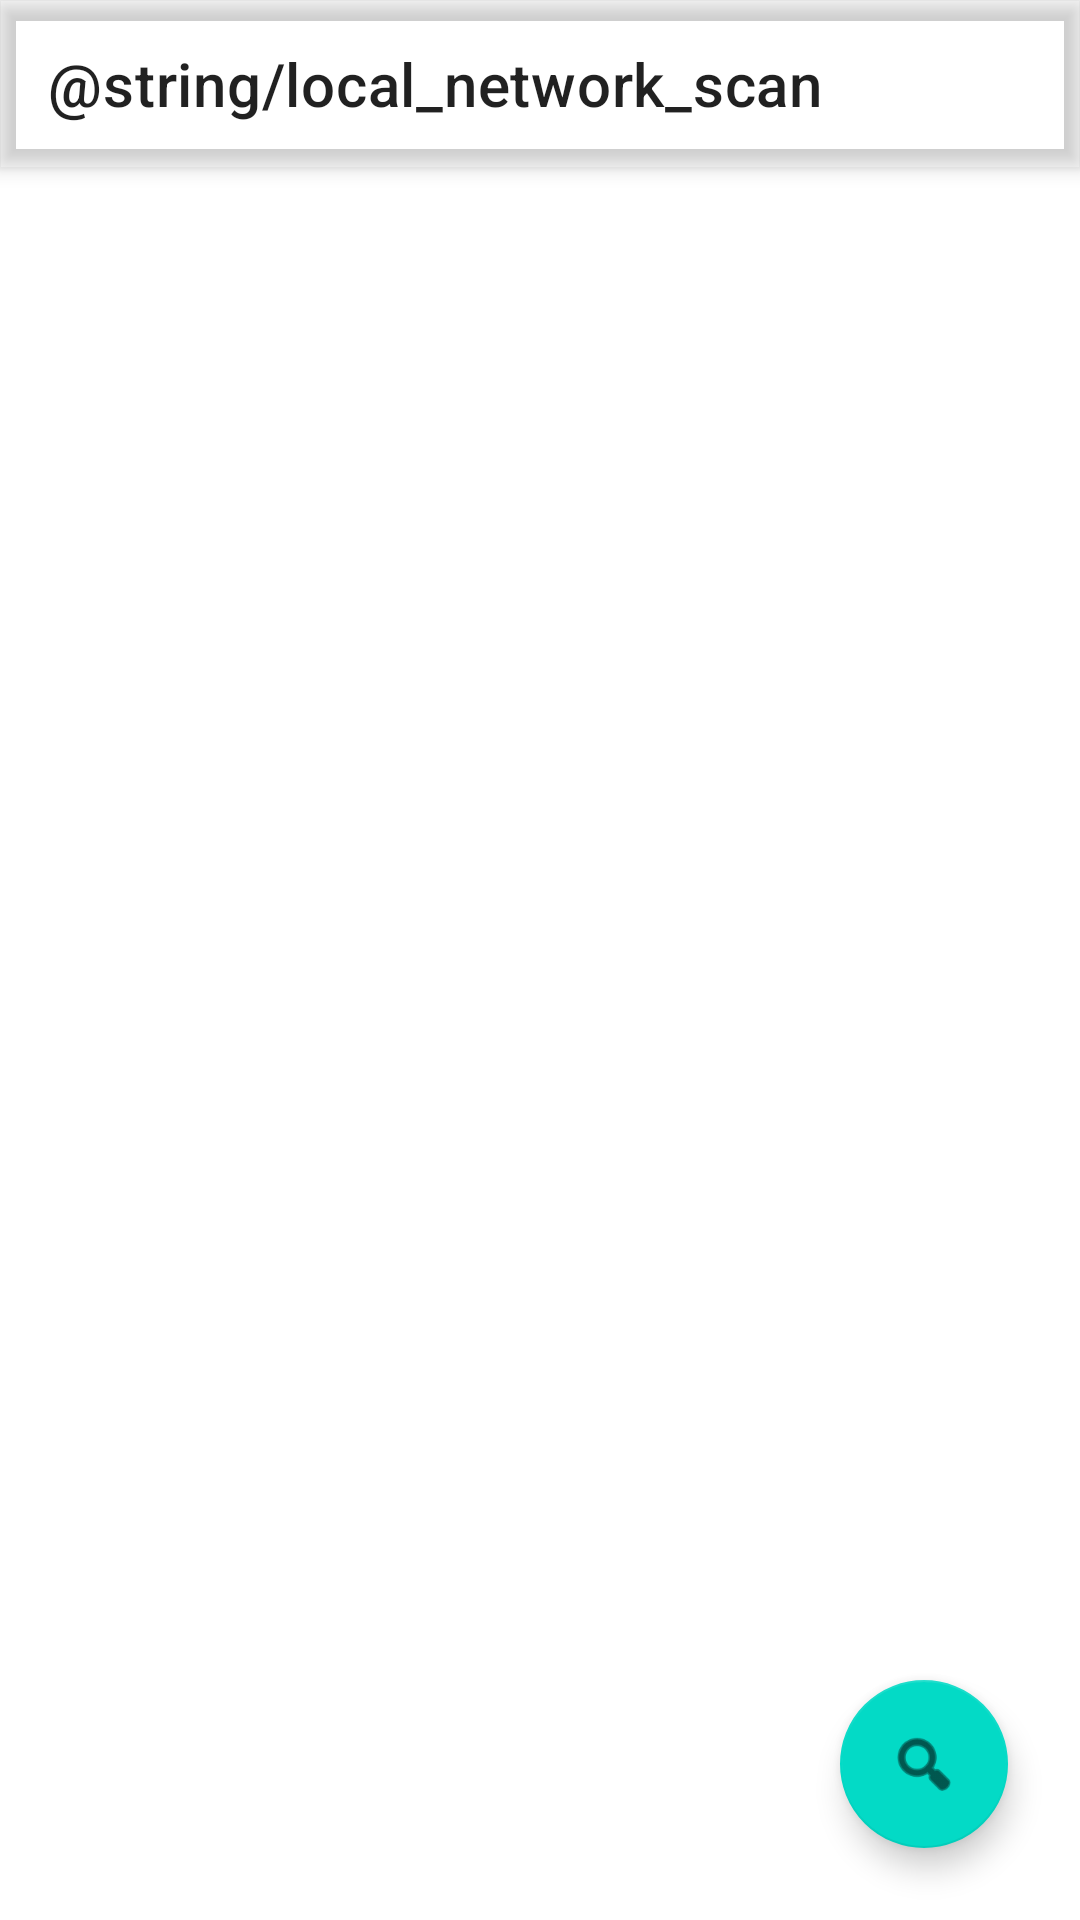

Named icons in this screenshot (1080px x 1920px) and their bounding boxes, (x1, y1, x2, y2):
Start Scan: (840, 1680, 1008, 1848)
